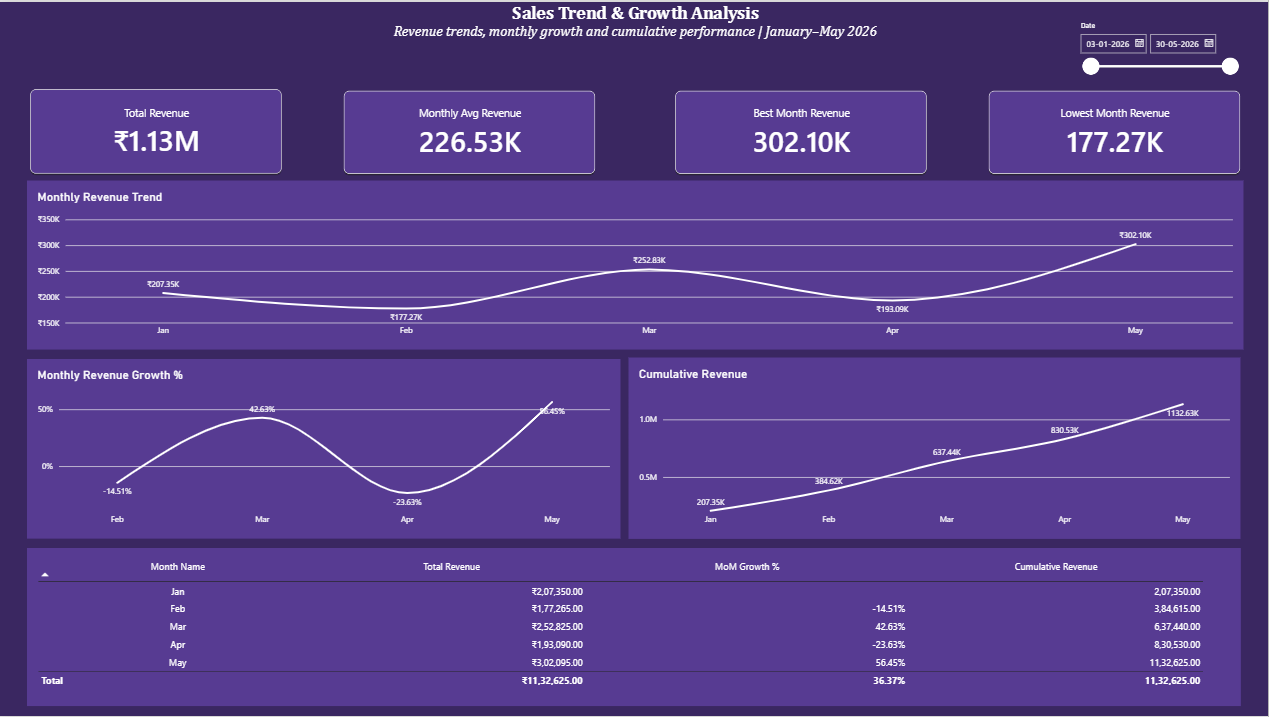

What the dashboard file says about the page in this screenshot:
{"tool":"powerbi","page":{"name":"Trend Analysis","canvas":[1920,1080],"ordinal":4},"visuals":[{"type":"textbox","box":[7.7,0,1910.6,59.6],"z":0},{"type":"cardVisual","fields":{"Data":["sales.Total Revenue"]},"box":[42.9,128.8,386.5,133.6],"z":1000},{"type":"cardVisual","fields":{"Data":["sales.Monthly Avg Revenue"]},"box":[517.7,131.2,386.5,131.2],"z":2000},{"type":"cardVisual","fields":{"Data":["sales.Best Month Revenue"]},"box":[1018.8,131.2,386.5,131.2],"z":3000},{"type":"cardVisual","fields":{"Data":["sales.Lowest Month Revenue"]},"box":[1493.6,131.2,386.5,131.2],"z":4000},{"type":"lineChart","title":"Monthly Revenue Trend","fields":{"Category":["DateTable.Month Name"],"Y":["sales.Total Revenue"]},"box":[40.6,270.8,1841.7,256.2],"z":5000},{"type":"lineChart","title":"Monthly Revenue Growth %","fields":{"Category":["DateTable.Month Name"],"Y":["sales.MoM Growth %"]},"box":[41.1,540,898.9,272.2],"z":5001},{"type":"lineChart","title":"Cumulative Revenue","fields":{"Category":["DateTable.Month Name"],"Y":["sales.Cumulative Revenue"]},"box":[951.1,538.9,926.7,274.4],"z":5002},{"type":"tableEx","fields":{"Values":["DateTable.Month Name","sales.Total Revenue","sales.MoM Growth %","sales.Cumulative Revenue"]},"box":[41.4,826.3,1838.1,239.3],"z":5003},{"type":"slicer","fields":{"Values":["DateTable.Date"]},"box":[1628.6,29.8,250.5,85.9],"z":5004}]}

Visuals, with their boxes in screenshot pixels (x1, y1, x2, y2), scaled from the page's 1920x1080 canvas onto the 1269x717 screenshot:
textbox: [5,0,1268,40]
cardVisual - sales.Total Revenue: [28,86,284,174]
cardVisual - sales.Monthly Avg Revenue: [342,87,598,174]
cardVisual - sales.Best Month Revenue: [673,87,929,174]
cardVisual - sales.Lowest Month Revenue: [987,87,1243,174]
"Monthly Revenue Trend" lineChart: [27,180,1244,350]
"Monthly Revenue Growth %" lineChart: [27,358,621,539]
"Cumulative Revenue" lineChart: [629,358,1241,540]
tableEx - DateTable.Month Name x sales.Total Revenue: [27,549,1242,707]
slicer - DateTable.Date: [1076,20,1242,77]
